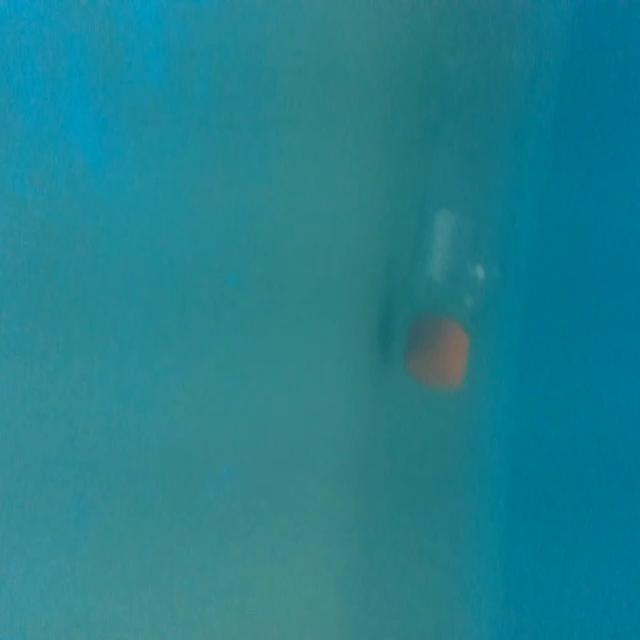plastic bottle: (397, 37, 523, 406)
